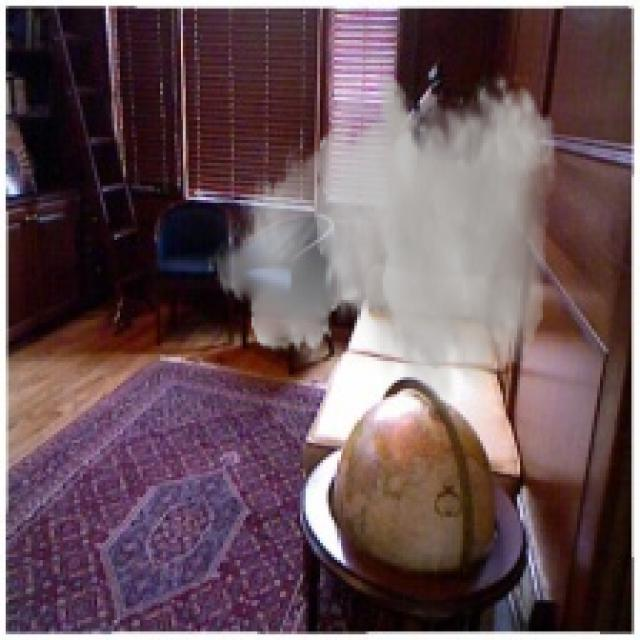smoke: (206, 69, 557, 428)
